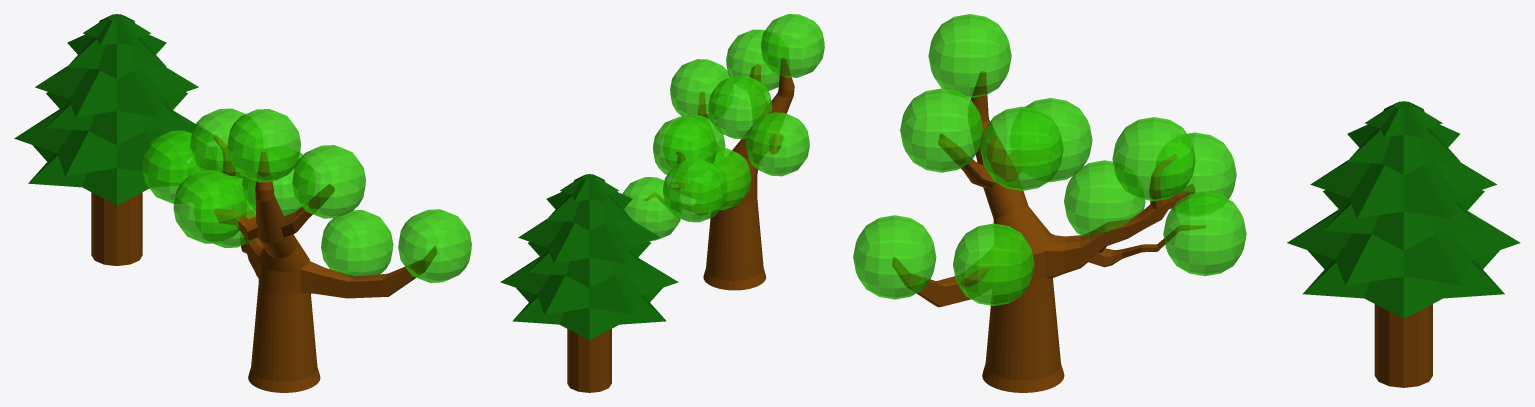
The model's file is Tree_Sets.fbx.
3 views of the same model, side by side, from view 1: azimuth 30°, elevation 25°; view 2: azimuth 150°, elevation 25°; view 3: azimuth 270°, elevation 25° (orthographic). The views are drawn at different scales.
Parts seen in each view (by area): view 1: HebWood, LightWood; view 2: HebWood, LightWood; view 3: HebWood, LightWood.
Boxes of the visible parts, <box> form: HebWood: <box>142,108,471,392</box>; LightWood: <box>14,14,198,265</box>; HebWood: <box>622,14,824,290</box>; LightWood: <box>500,174,678,392</box>; HebWood: <box>853,14,1246,392</box>; LightWood: <box>1287,101,1520,387</box>.
Bounding box in the file's own units: 985 × 1256 × 2282.
